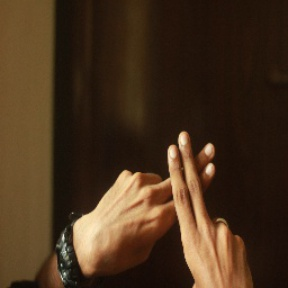F: (137, 113, 234, 250)
